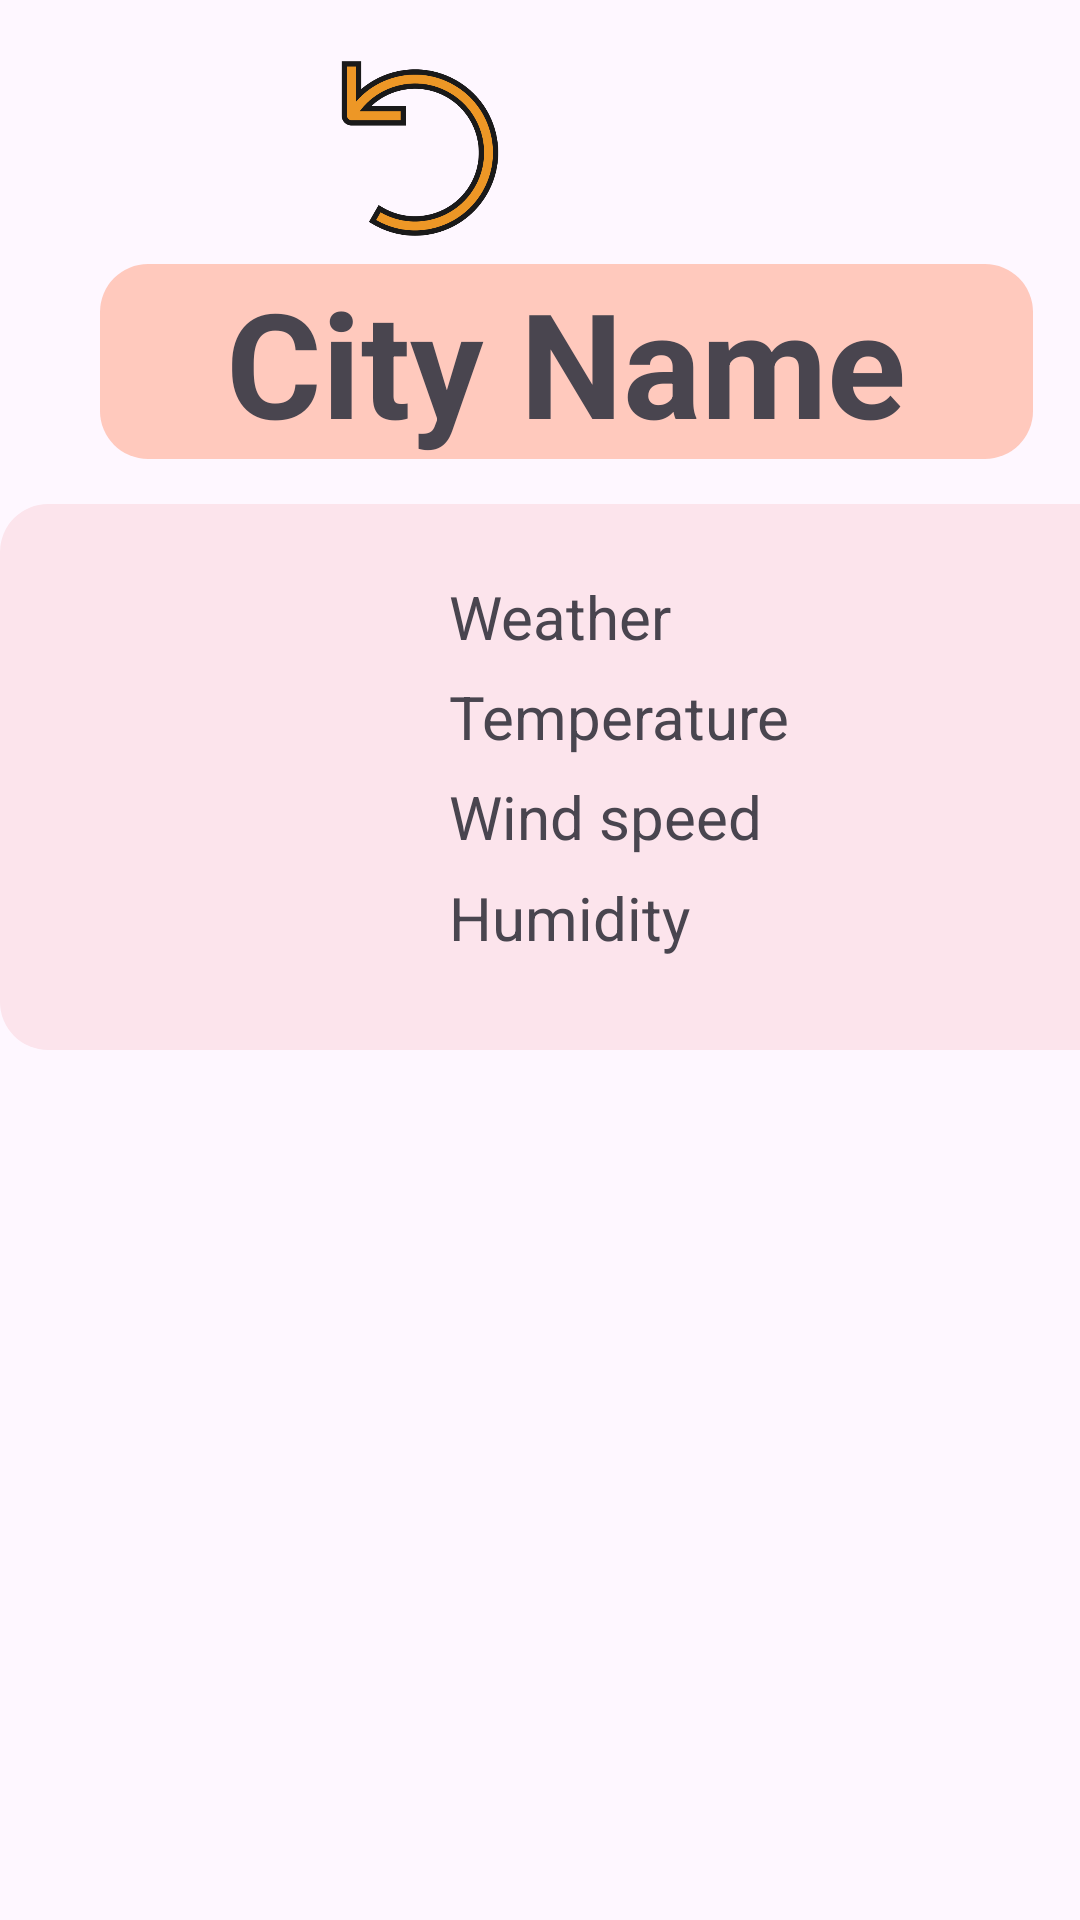

Locate icon controls on the screen. Image size 1080*1920, boxes as detection(x1, y1, x2, y2).
undo: detection(341, 61, 499, 236)
